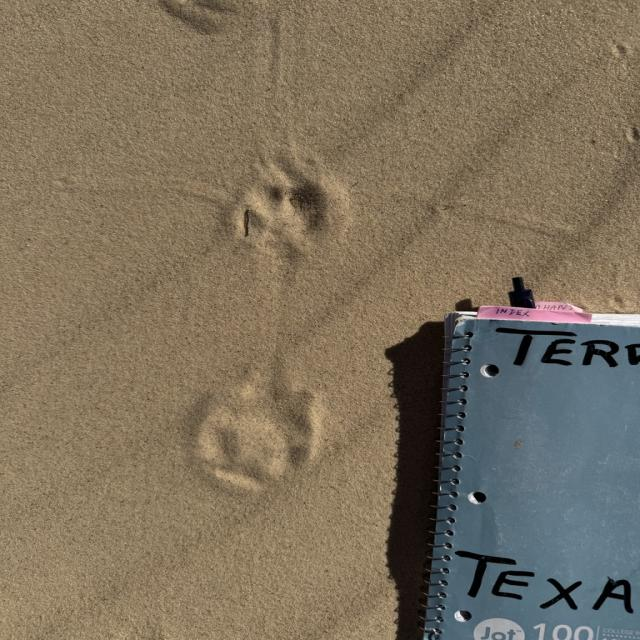canid: (195, 382, 320, 488), (234, 181, 338, 261)
